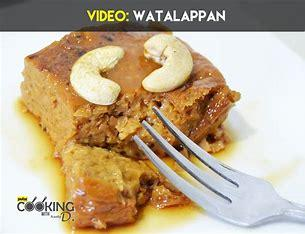Watalappam: (19, 31, 217, 220)
